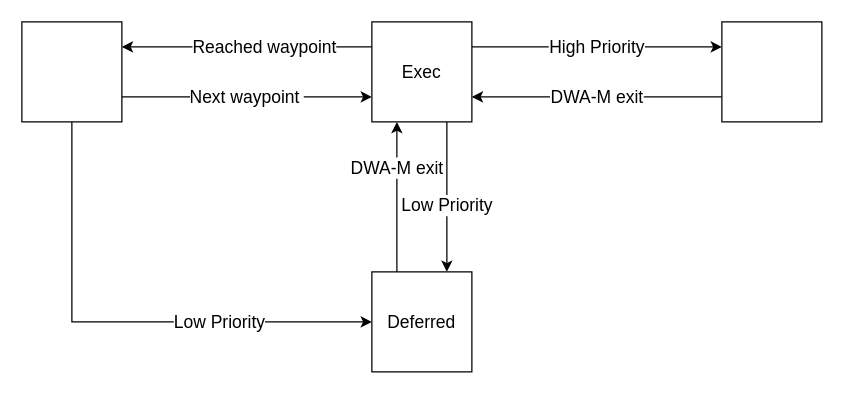
Some shapes in this 844 by 394 pixel diagram are drawn without their labels. Each missing label, with the centre of its shape:
"Exec_Joint" belongs at (x=771, y=71).
"Idle" belongs at (x=71, y=71).
